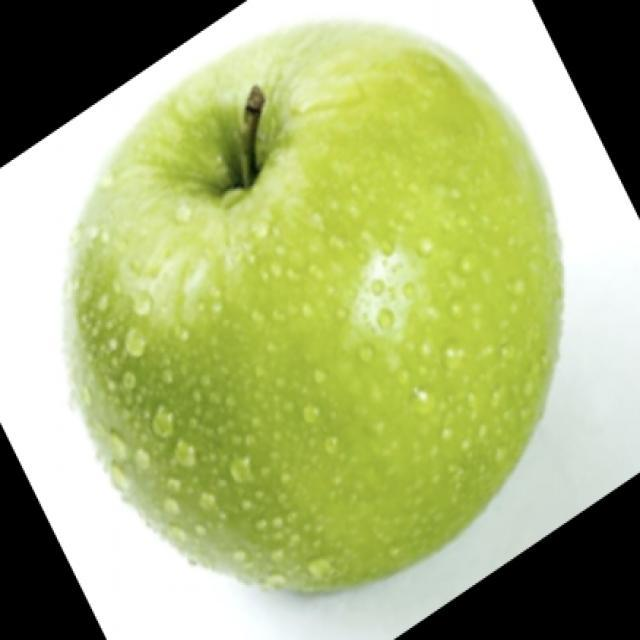Fresh Apple: (75, 27, 570, 590)
